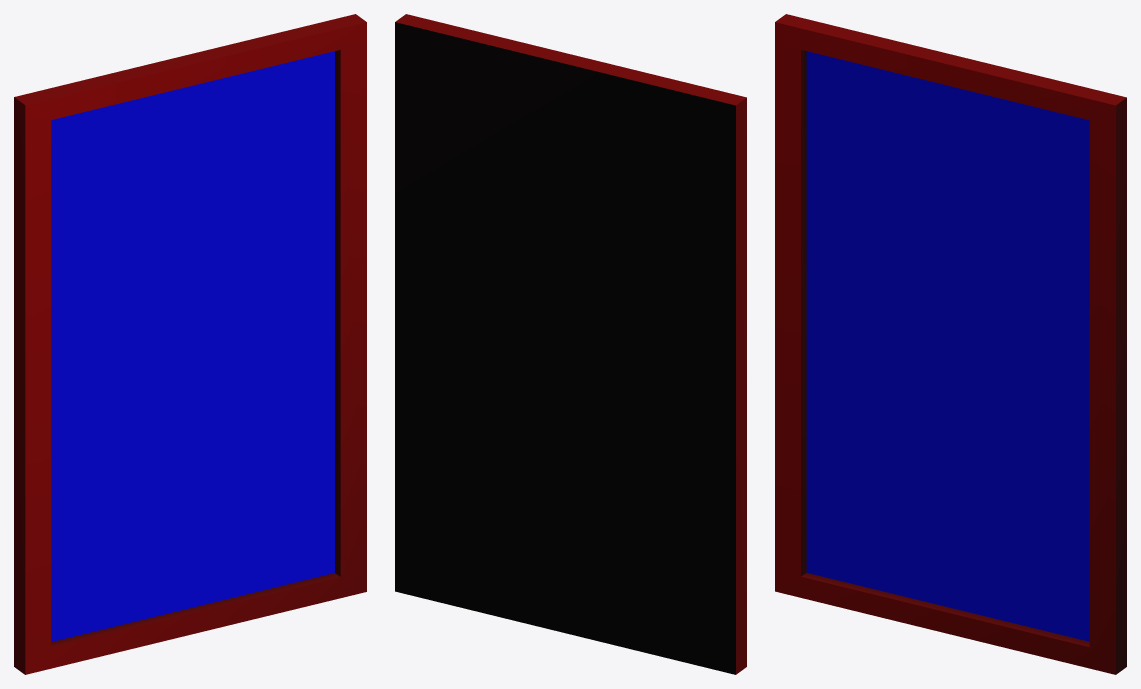
Rendered from FullLengthMirror.glb.
3 views of the same model, side by side, from view 1: azimuth 30°, elevation 25°; view 2: azimuth 150°, elevation 25°; view 3: azimuth 330°, elevation 25° (orthographic).
Visible parts, largest first — view 1: FullLengthMirror; view 2: FullLengthMirror; view 3: FullLengthMirror.
Part boxes in pixels (<box>): FullLengthMirror: <box>14,14,366,674</box>; FullLengthMirror: <box>395,14,746,674</box>; FullLengthMirror: <box>775,14,1126,674</box>.
Bounding box in the file's own units: 4.41 × 7.03 × 0.2545.
